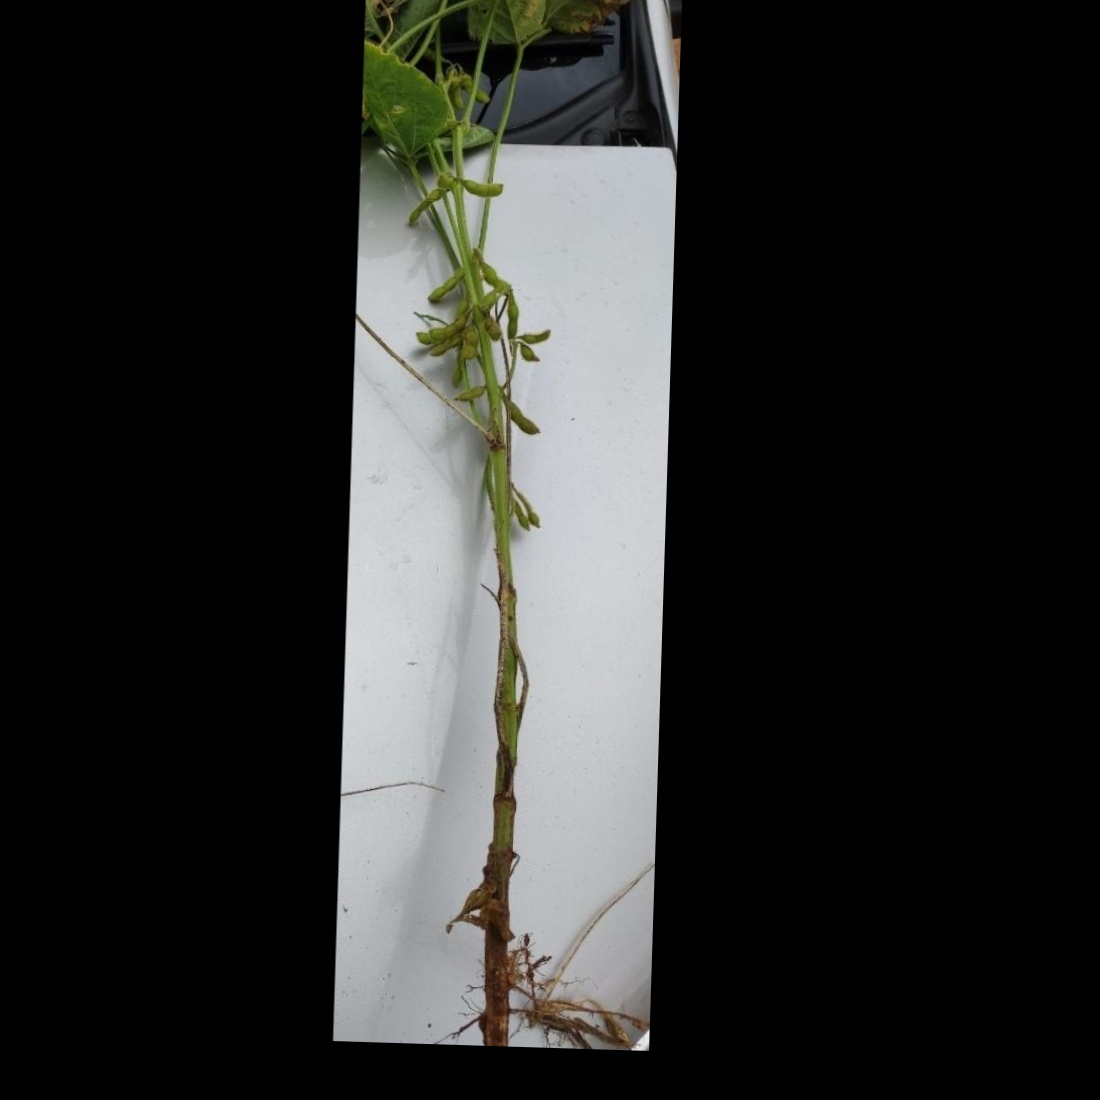pod: (499, 394, 542, 437), (404, 185, 449, 227), (424, 265, 464, 304), (460, 175, 504, 198), (506, 496, 531, 535), (513, 325, 560, 346), (460, 68, 487, 103), (503, 293, 520, 342), (460, 323, 480, 360), (450, 383, 486, 403), (515, 341, 543, 366), (480, 313, 503, 341), (528, 503, 547, 532), (451, 78, 464, 111)
soy: (343, 0, 657, 1018)
